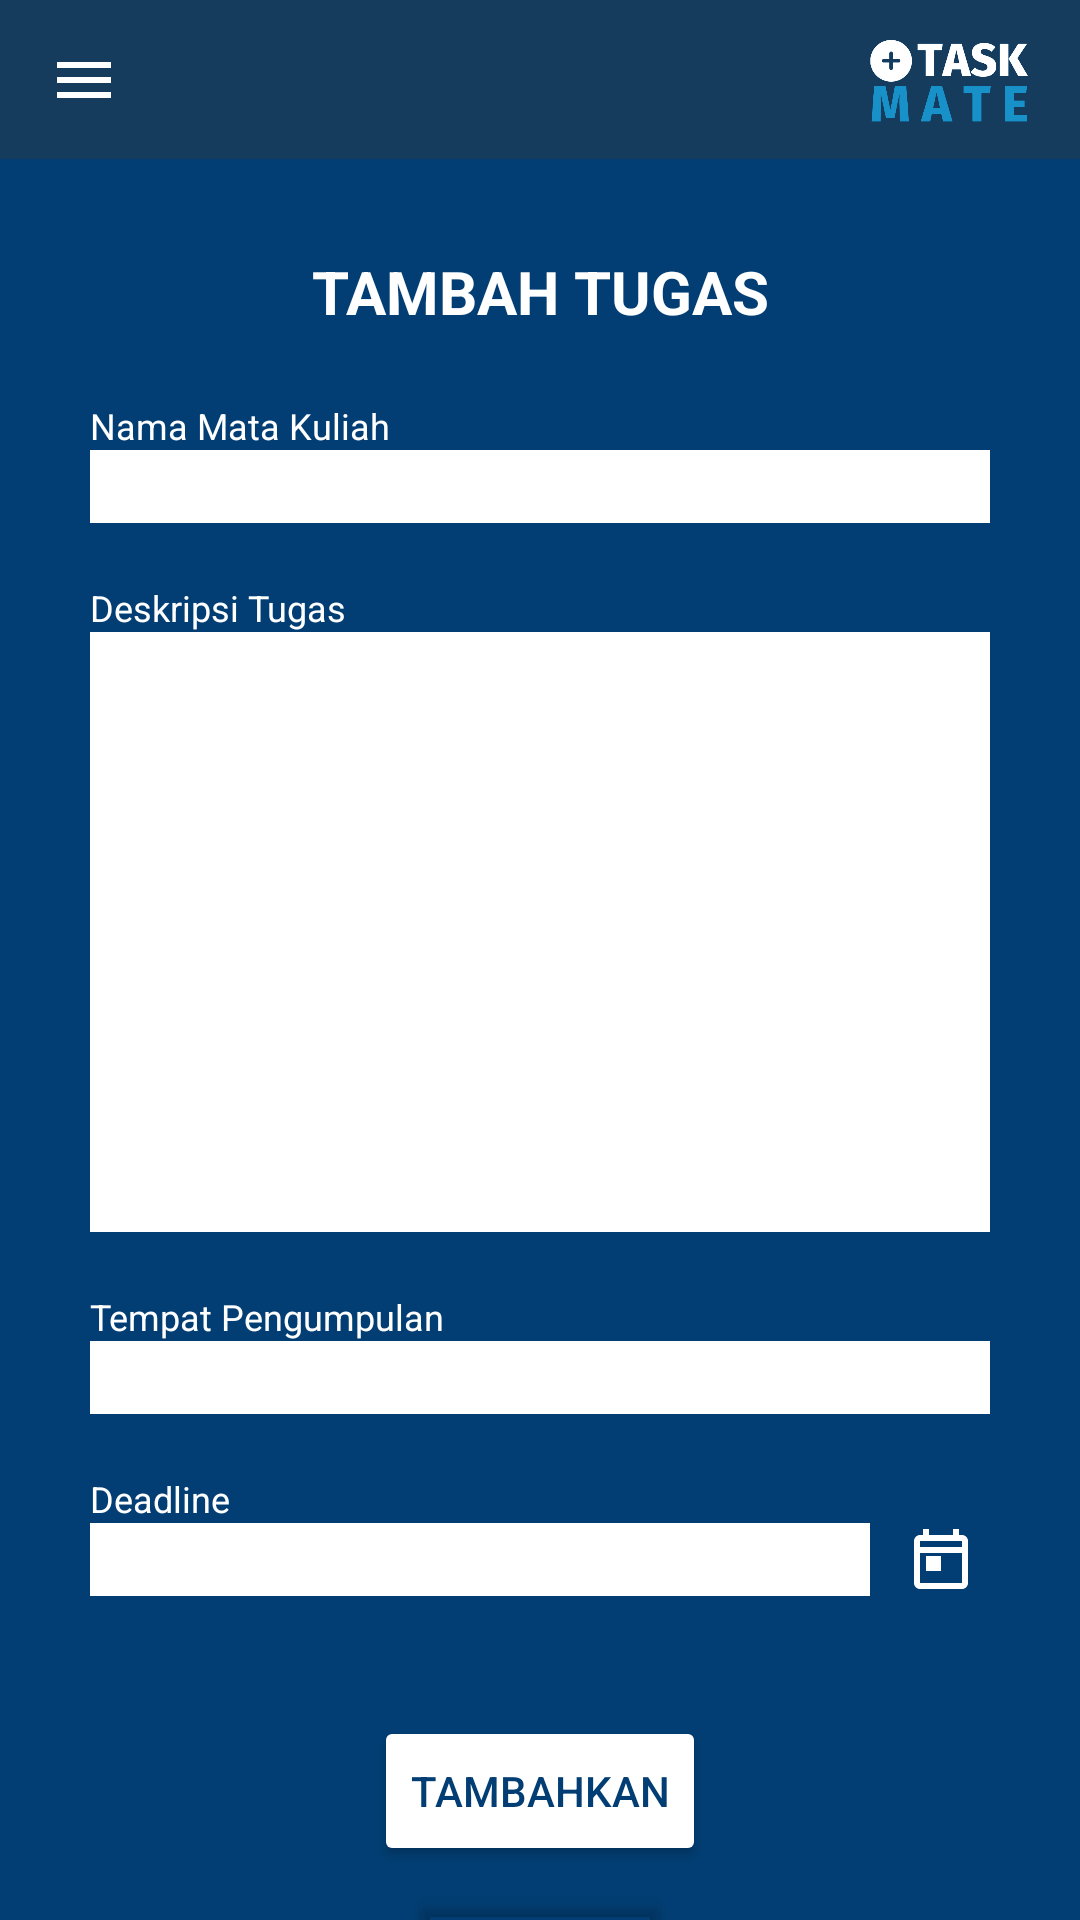

Icons on this 1080w x 1920h Android screen, each with its box as (x1, y1, x2, y2):
kalender: (914, 1529, 968, 1589)
